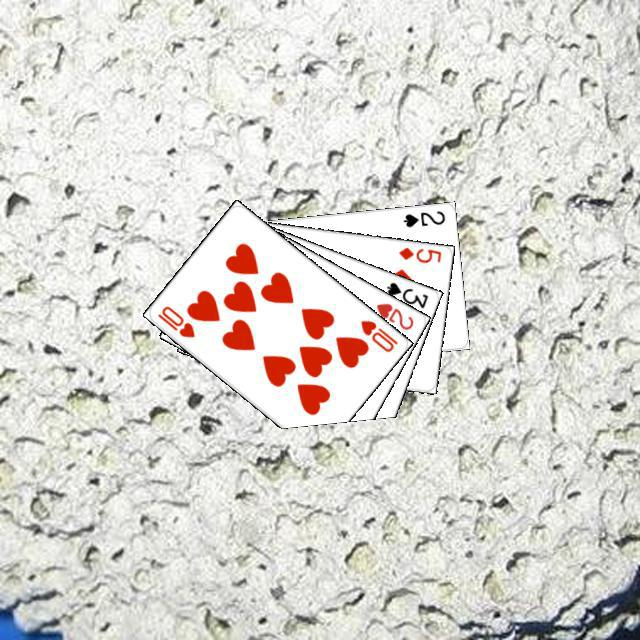10h: (355, 315, 399, 354), (152, 301, 197, 339)
2h: (371, 298, 415, 332)
2s: (399, 206, 447, 229)
3s: (381, 277, 430, 310)
5d: (394, 242, 443, 265)
